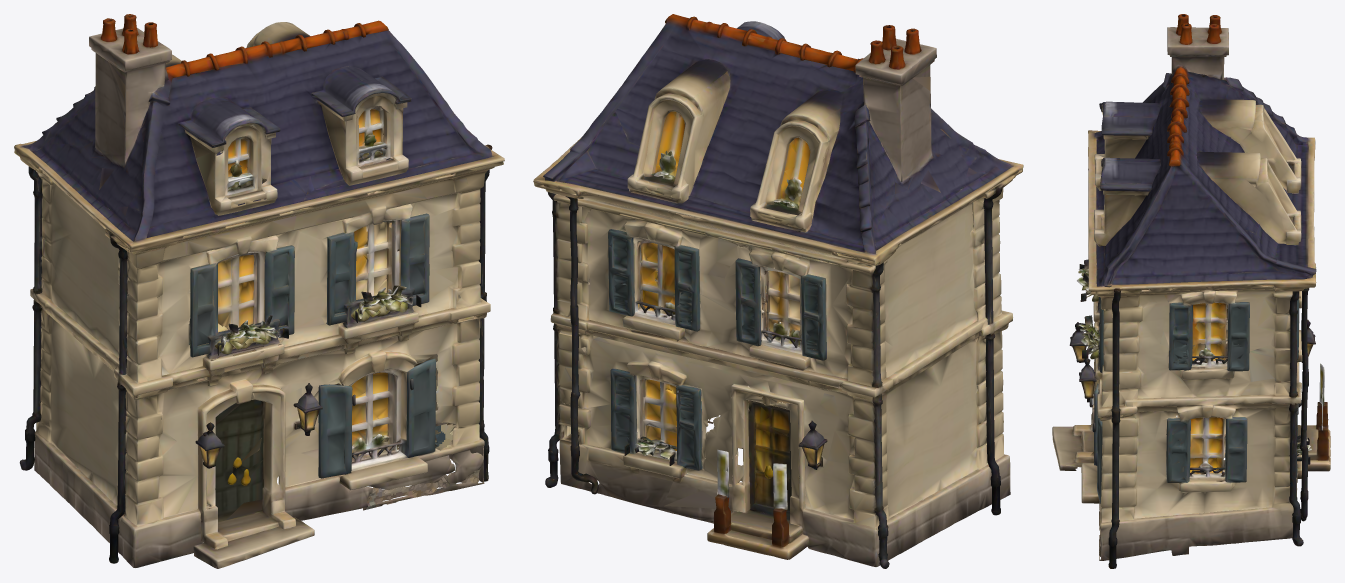
File: classic_house.glb
3 renders of one model, left to right at view 1: azimuth 30°, elevation 25°; view 2: azimuth 150°, elevation 25°; view 3: azimuth 270°, elevation 25°, orthographic. The views are drawn at different scales.
Parts seen in each view (by area): view 1: classic_house_ai_structure; view 2: classic_house_ai_structure; view 3: classic_house_ai_structure.
Part boxes in pixels (box(x1,y1,x2,y2)): classic_house_ai_structure: box(14, 14, 504, 568); classic_house_ai_structure: box(533, 14, 1023, 568); classic_house_ai_structure: box(1052, 14, 1330, 568).
Size of the model in its own units: 2.39 by 3 by 1.79.
Materials: 1 (1 with a texture image).
